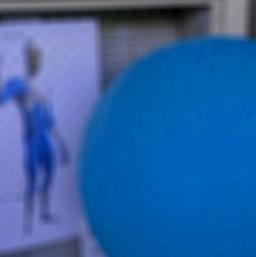algae: (75, 35, 256, 257)
